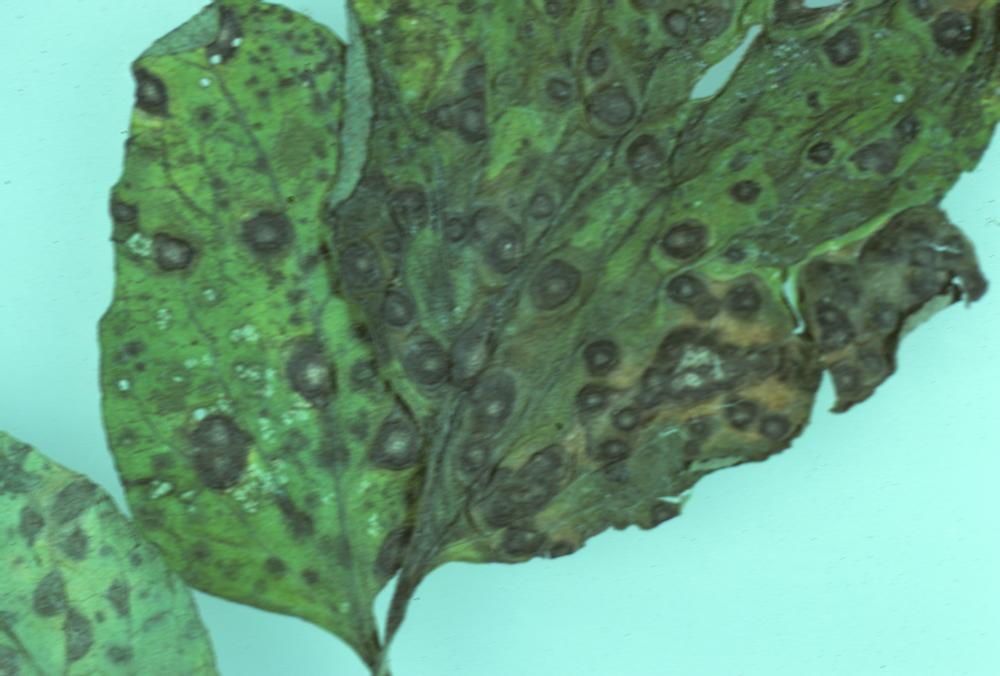Tomato Septoria leaf spot: (86, 0, 1000, 645)
